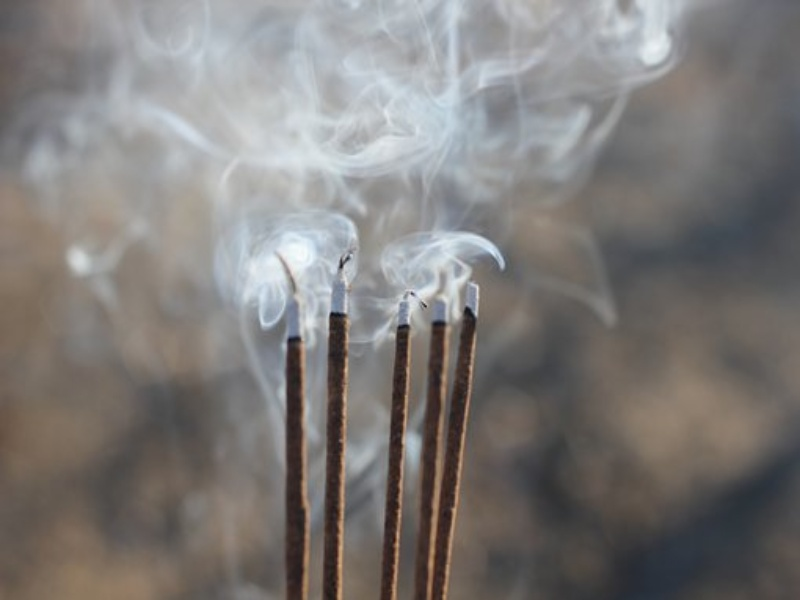smoke: (202, 1, 493, 318)
